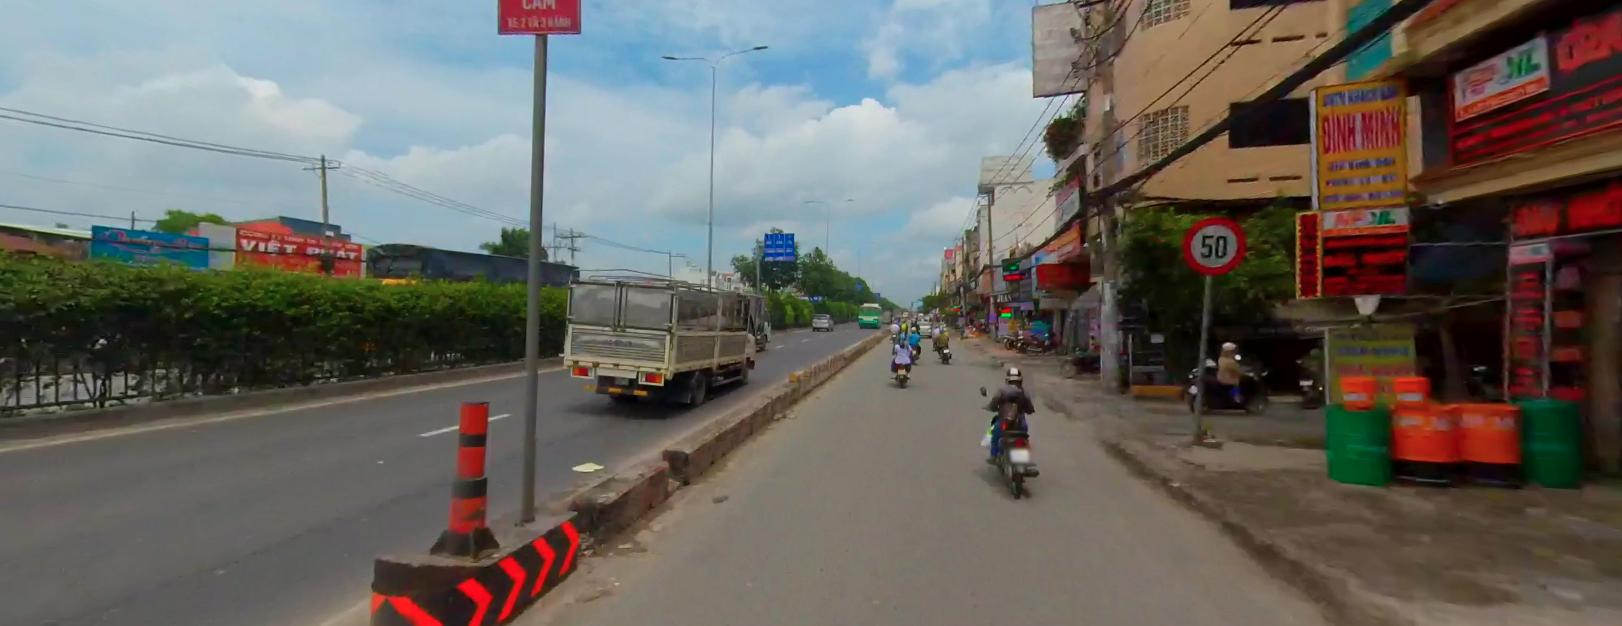Gioi han toc do: (1183, 216, 1244, 272)
